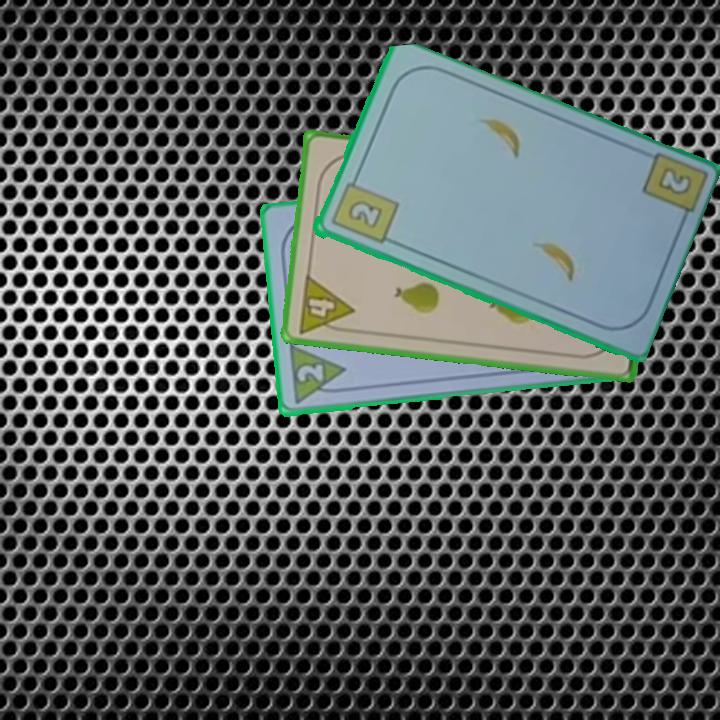2b: (327, 171, 400, 247), (653, 163, 692, 199)
2p: (285, 342, 349, 407)
4p: (294, 271, 357, 337)
